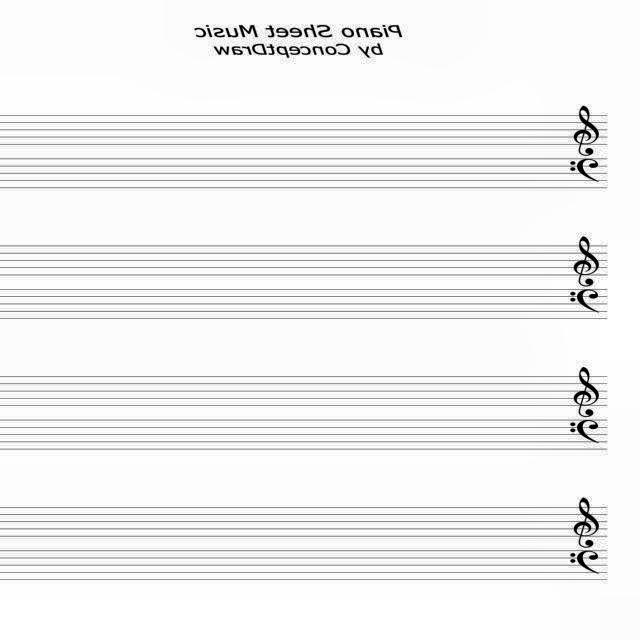Bass-clef: (567, 550, 603, 578), (566, 156, 600, 184), (568, 288, 604, 314), (566, 420, 604, 444)
Treble-clef: (568, 104, 602, 156), (572, 495, 604, 549), (571, 364, 601, 418), (572, 234, 600, 290)
